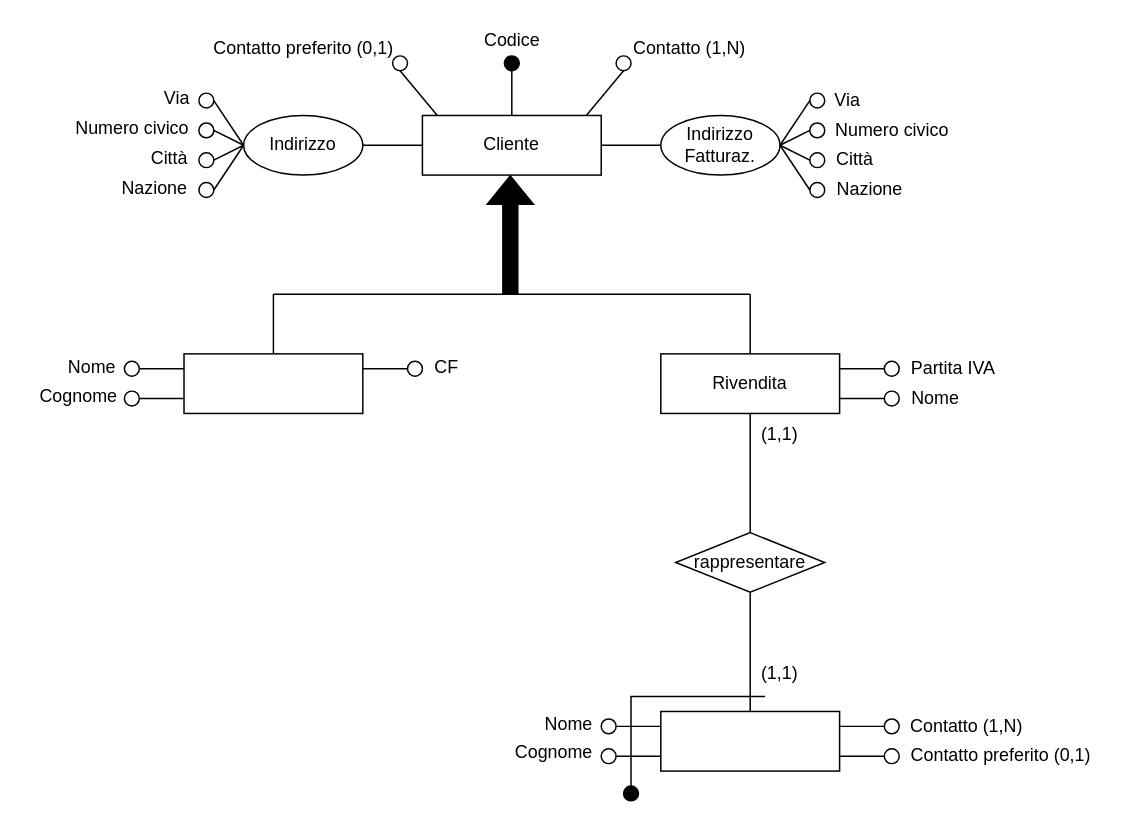
Image size: 1129x827. Some labels were removed from this diagram. The shapes that lost their labels are listed below. From the top down, each one's centre as x and y in pixels, then its label:
point 273,382: Cliente privato
point 749,740: Referente
